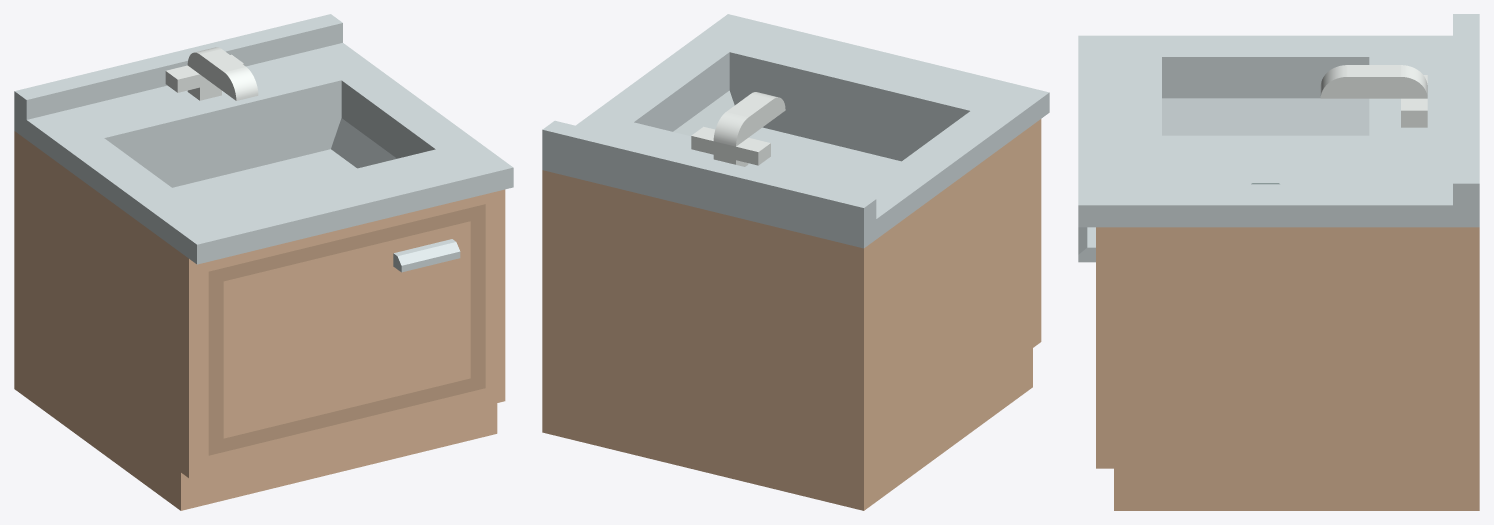
Rendered from kitchenSink-col.glb.
3 renders of one model, left to right at view 1: azimuth 30°, elevation 25°; view 2: azimuth 150°, elevation 25°; view 3: azimuth 270°, elevation 25°, orthographic. The views are drawn at different scales.
Parts seen in each view (by area): view 1: kitchenSink-col; view 2: kitchenSink-col; view 3: kitchenSink-col.
Part boxes in pixels (bbox=[...]): kitchenSink-col: bbox=[14, 14, 513, 510]; kitchenSink-col: bbox=[542, 14, 1049, 510]; kitchenSink-col: bbox=[1078, 14, 1479, 510].
Bounding box in the file's own units: 0.5 × 0.49 × 0.5.
